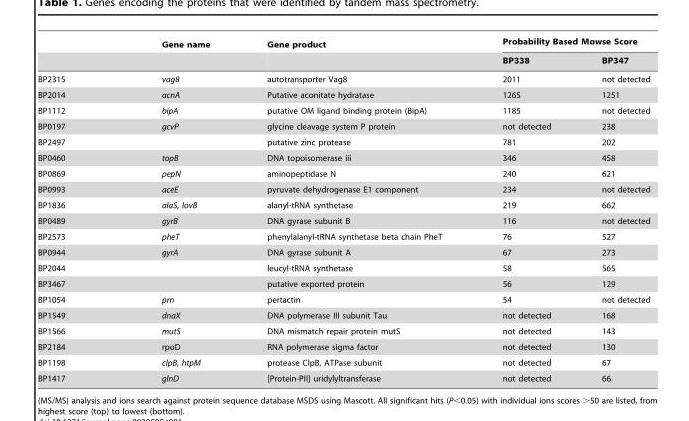table: (37, 36, 649, 382)
table column: (237, 36, 471, 382), (112, 36, 237, 382), (471, 36, 575, 382), (37, 36, 112, 382), (575, 36, 649, 382)
table column header: (37, 36, 649, 69)
table row: (37, 52, 649, 69), (37, 69, 649, 86), (37, 36, 649, 52), (37, 86, 649, 102), (37, 102, 649, 118), (37, 118, 649, 134), (37, 149, 649, 165), (37, 165, 649, 181), (37, 181, 649, 197), (37, 212, 649, 228), (37, 228, 649, 244), (37, 244, 649, 260), (37, 275, 649, 291), (37, 291, 649, 307), (37, 307, 649, 323), (37, 338, 649, 354), (37, 354, 649, 370), (37, 134, 649, 149), (37, 197, 649, 212), (37, 260, 649, 275), (37, 323, 649, 338), (37, 370, 649, 382)
table spanning cell: (237, 36, 471, 69), (112, 36, 237, 69), (471, 36, 649, 52)
